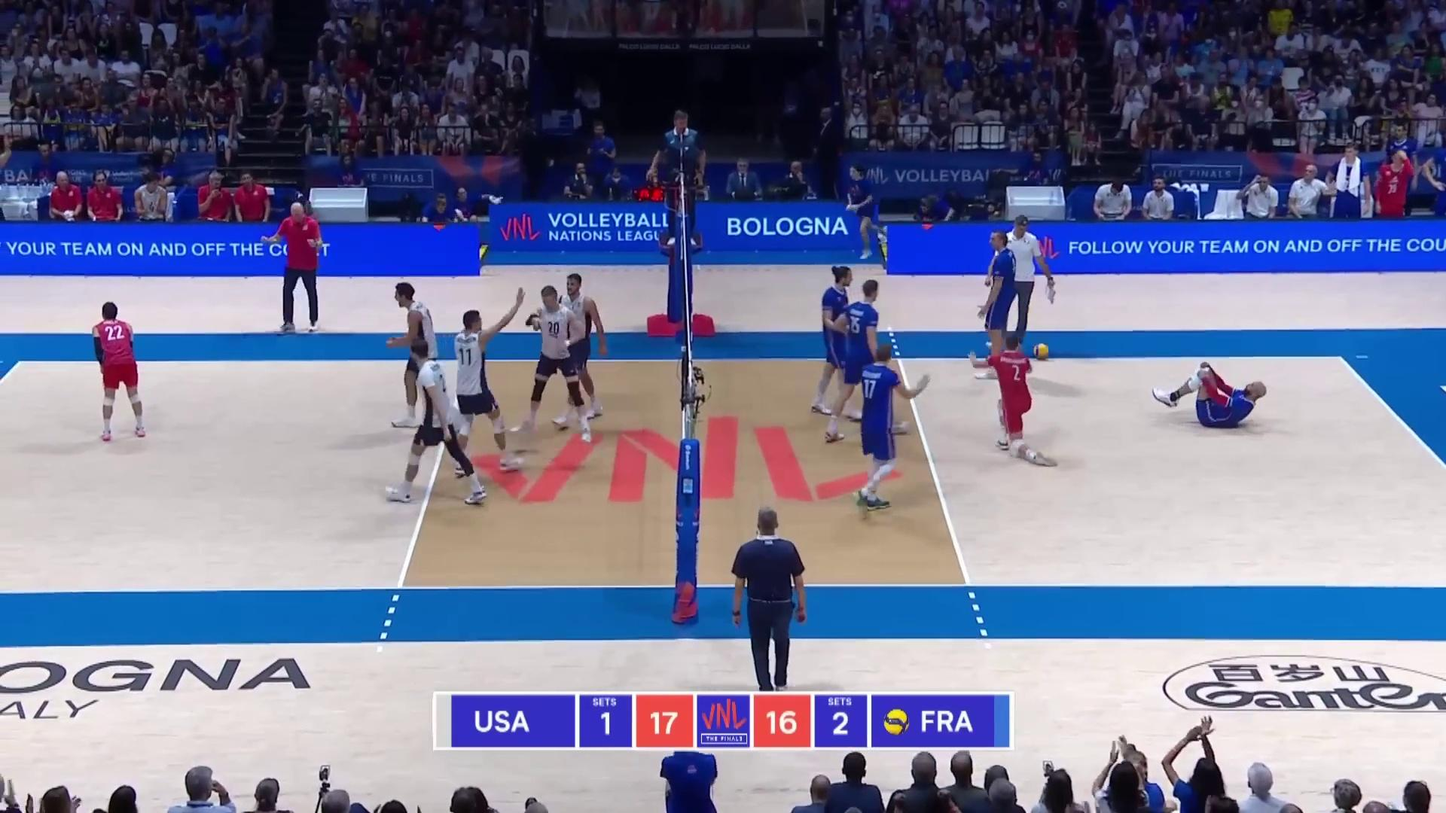player: (387, 338, 475, 505), (830, 346, 914, 516), (449, 305, 522, 485), (831, 277, 905, 443), (968, 334, 1055, 465), (519, 288, 589, 440), (1156, 355, 1272, 433), (815, 268, 869, 432), (559, 276, 609, 440), (94, 304, 149, 444), (388, 287, 439, 431), (977, 231, 1021, 379)
refree: (729, 509, 812, 693), (655, 112, 707, 247)
